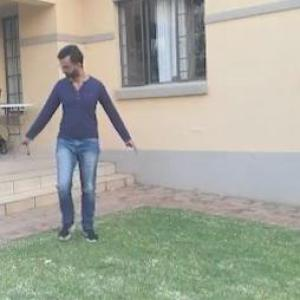land: (10, 33, 146, 258)
